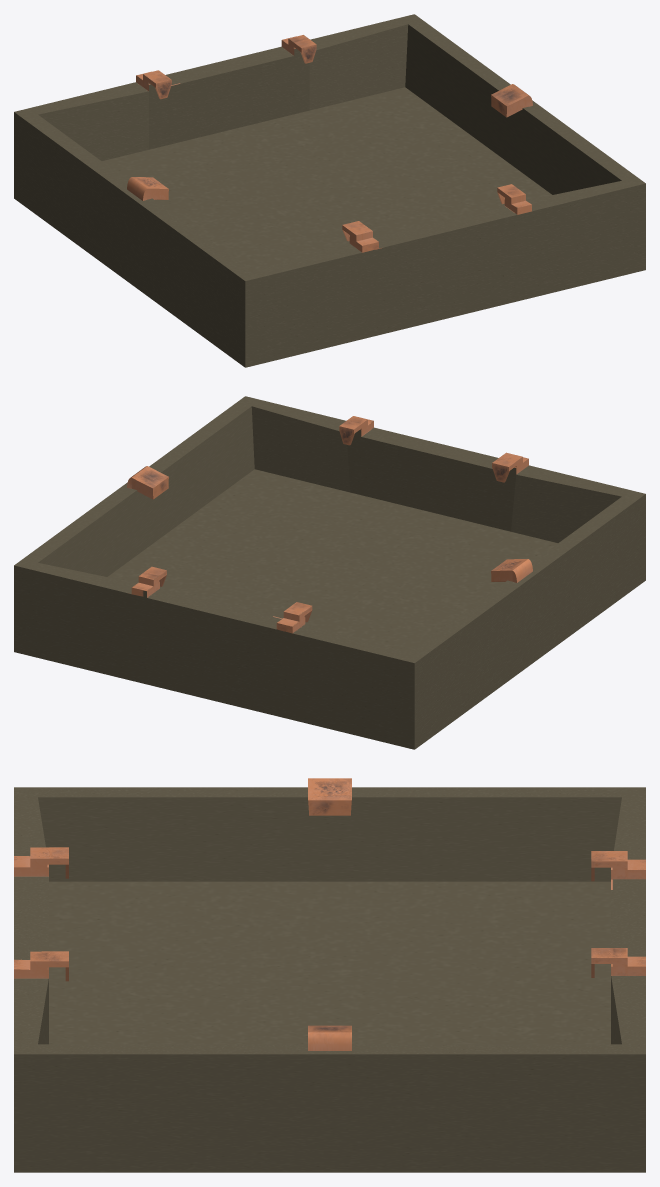
File: PuzzlePieceSpaceSquare.fbx
3 views of the same model, one above another, from view 1: azimuth 30°, elevation 25°; view 2: azimuth 150°, elevation 25°; view 3: azimuth 270°, elevation 25° (orthographic). The views are drawn at different scales.
Visible parts, largest first — view 1: Box002; view 2: Box002; view 3: Box002.
Boxes of the visible parts, x1=… form: Box002: x1=14, y1=14, x2=645, y2=367; Box002: x1=14, y1=396, x2=645, y2=749; Box002: x1=14, y1=778, x2=645, y2=1172.
Bounding box in the file's own units: 86.75 × 20.61 × 86.75.
1 material, 1 textured.
